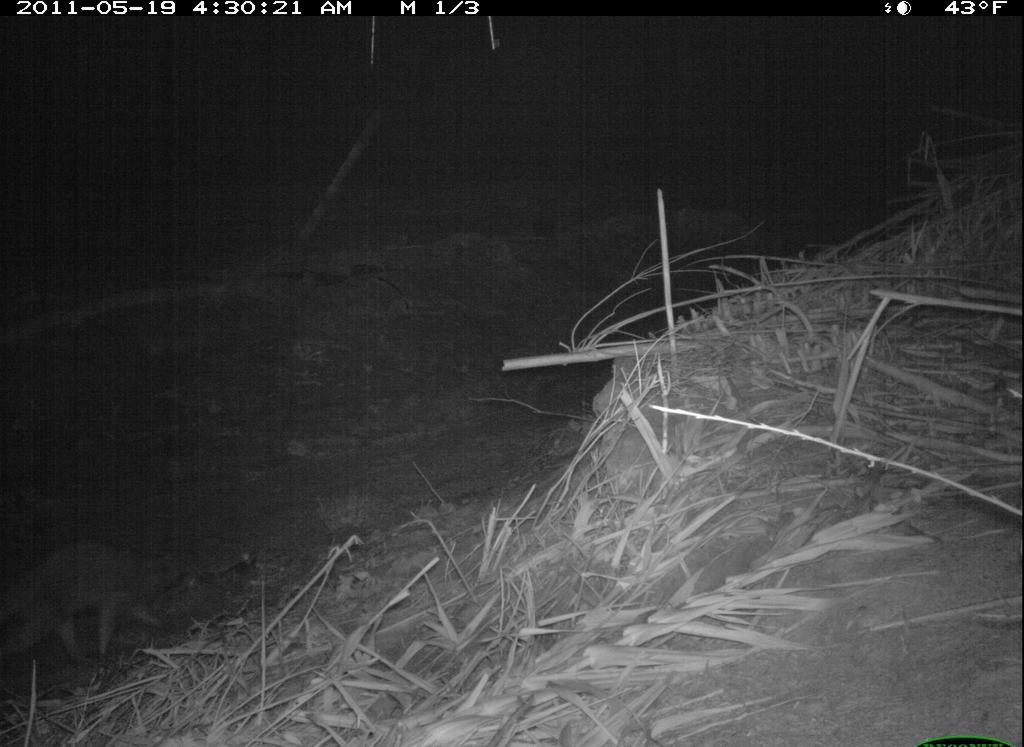rabbit: (7, 519, 250, 683)
